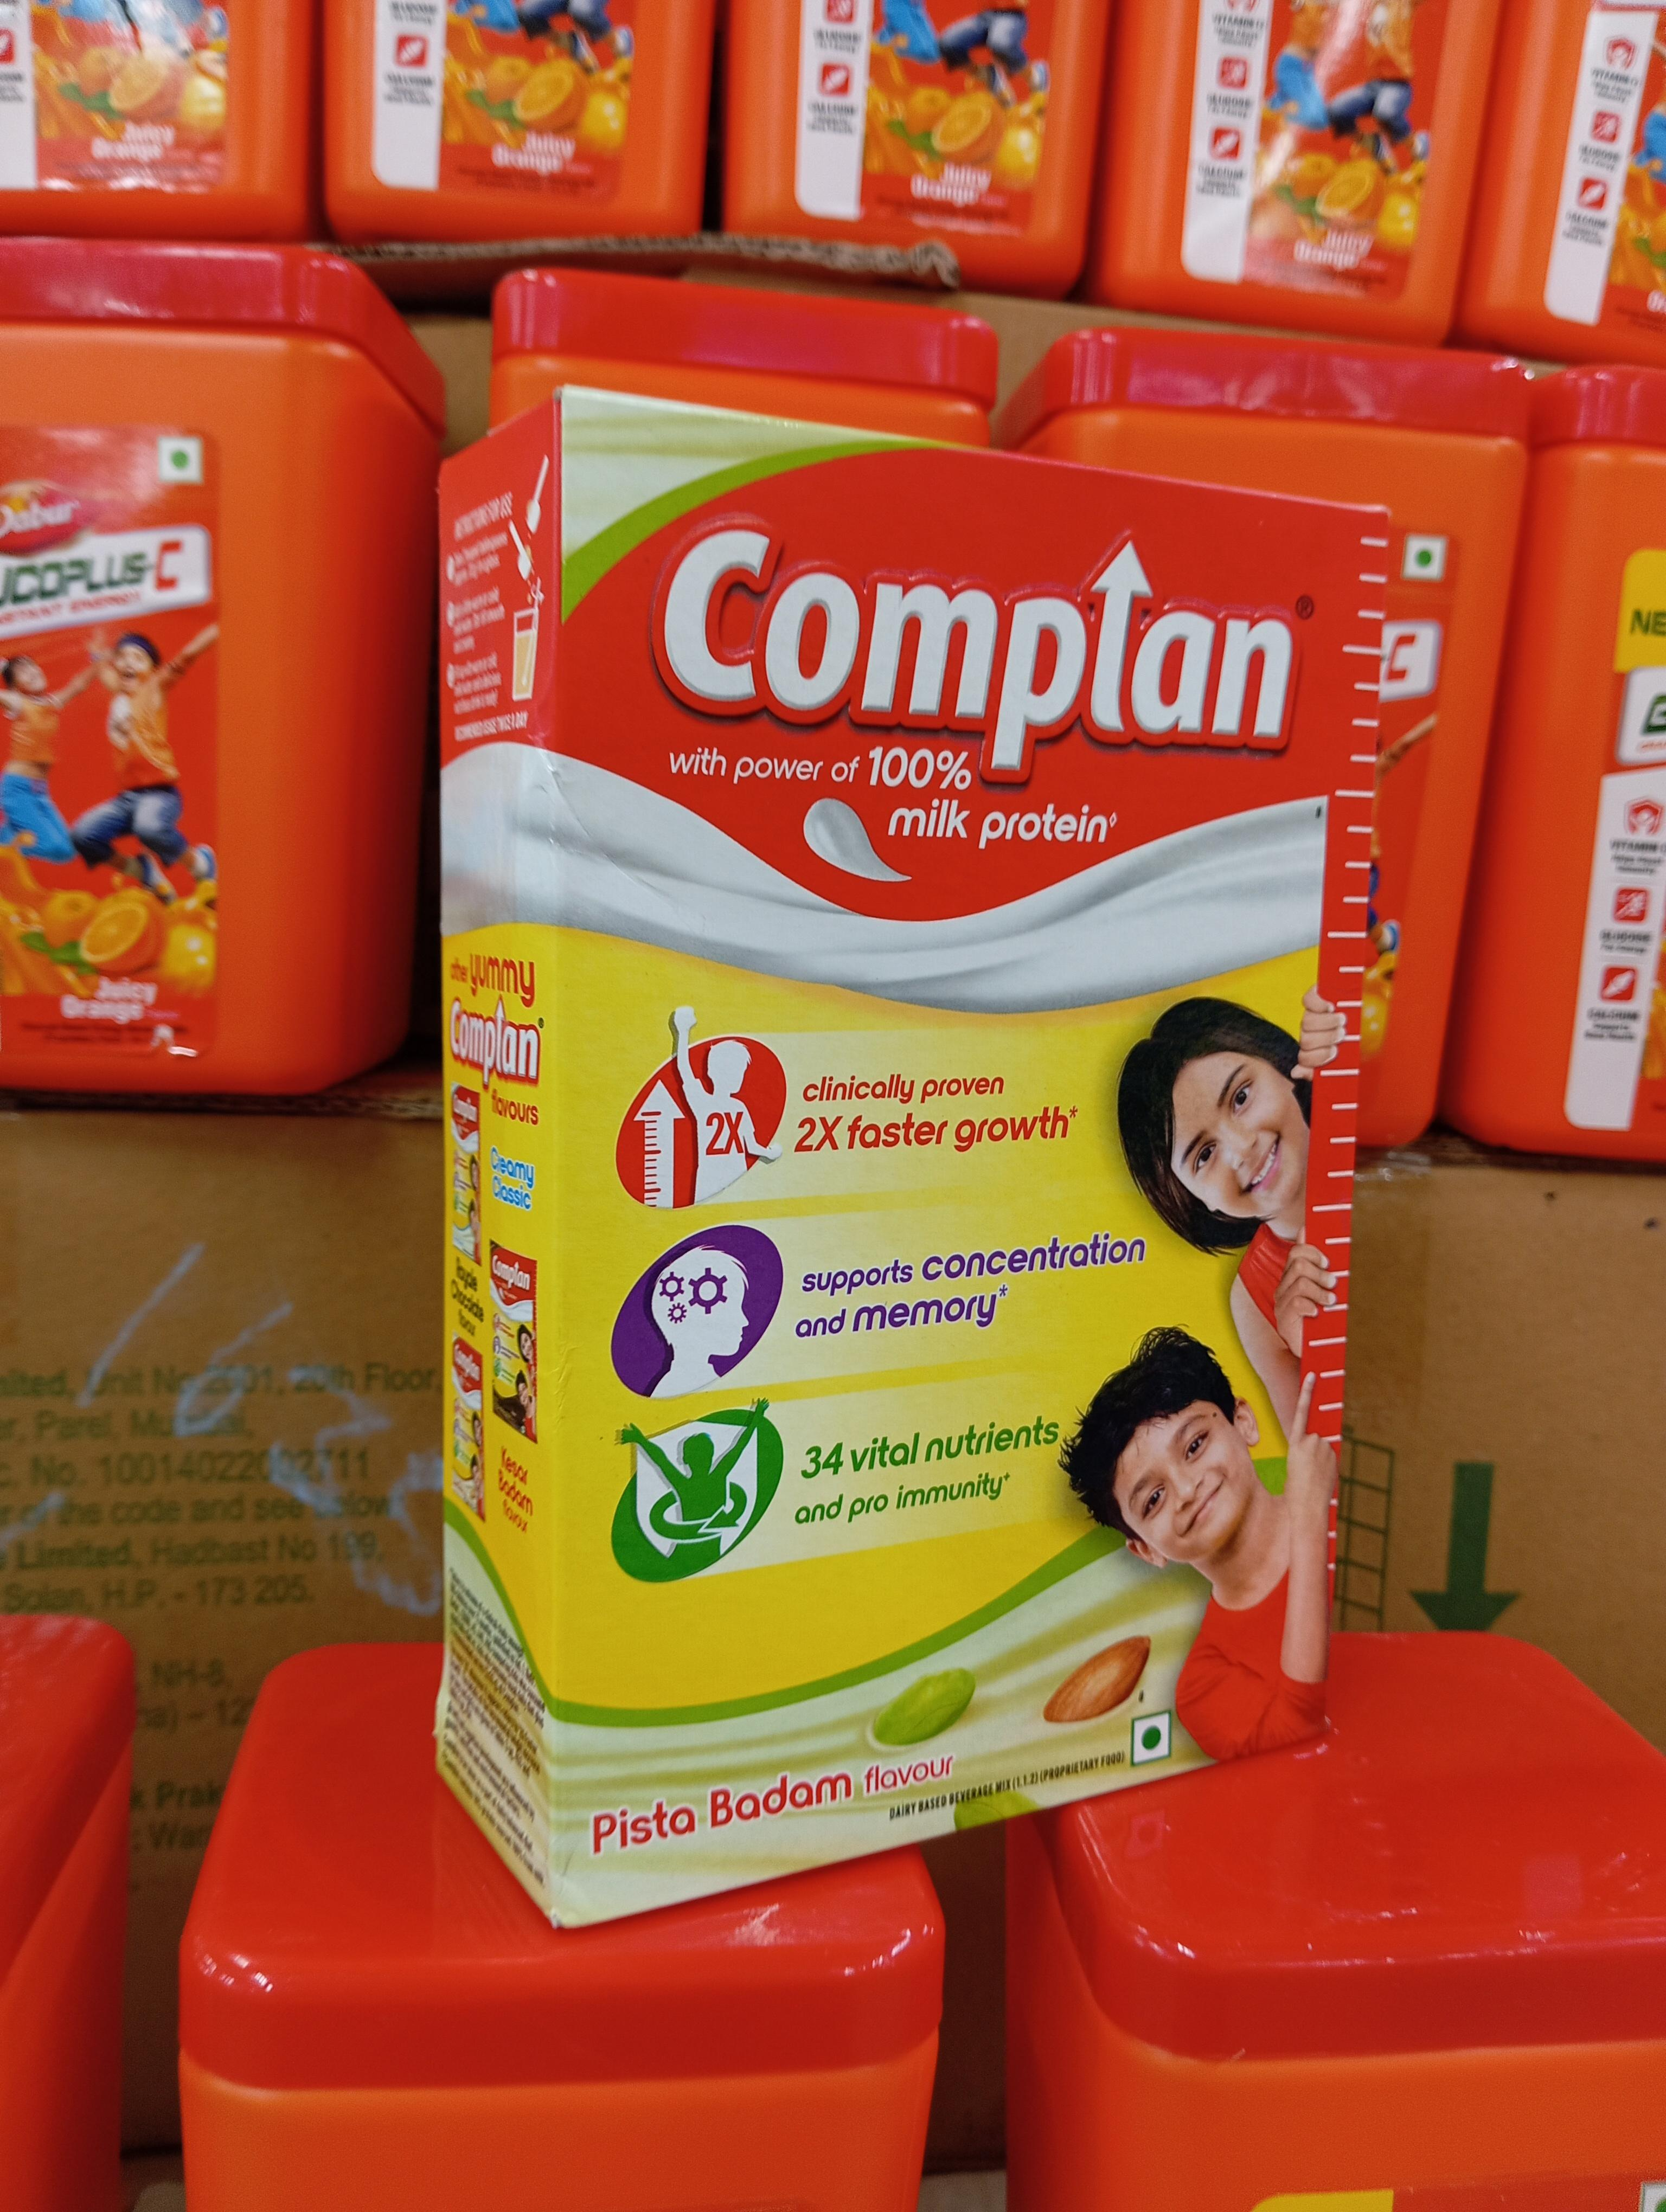COMPLAN_PISTA_BADAM_500_GMS_PACK: (562, 395, 1339, 1766)
